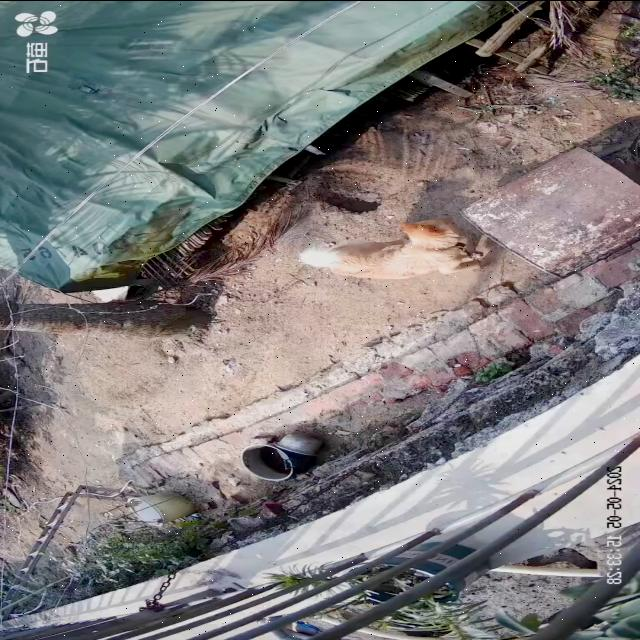dog: (298, 218, 484, 280)
